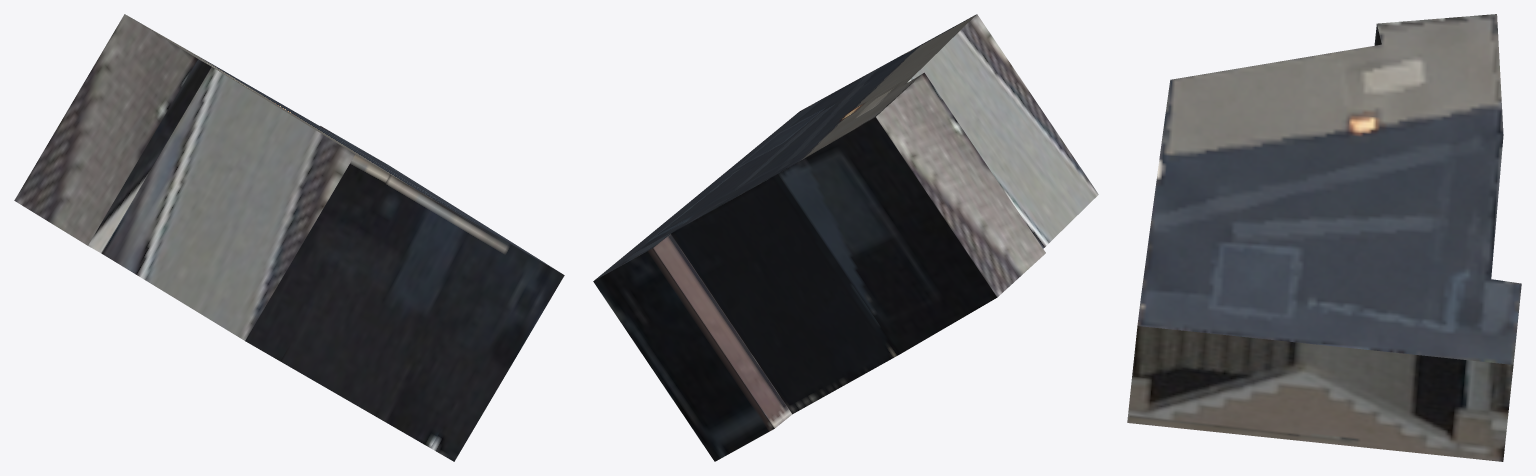
3 views of the same model, side by side, from view 1: azimuth 30°, elevation 25°; view 2: azimuth 150°, elevation 25°; view 3: azimuth 270°, elevation 25° (orthographic). The views are drawn at different scales.
Parts seen in each view (by area): view 1: BAG_0599100010059655 (×3); view 2: BAG_0599100010059655 (×3); view 3: BAG_0599100010059655.
Boxes of the visible parts, bbox=[...] form: BAG_0599100010059655 (×3): bbox=[14, 14, 564, 461]; BAG_0599100010059655 (×3): bbox=[593, 14, 1098, 461]; BAG_0599100010059655: bbox=[1127, 14, 1521, 461].
Bounding box in the file's own units: 5.3 × 4.94 × 4.74.
1 material, 1 textured.
